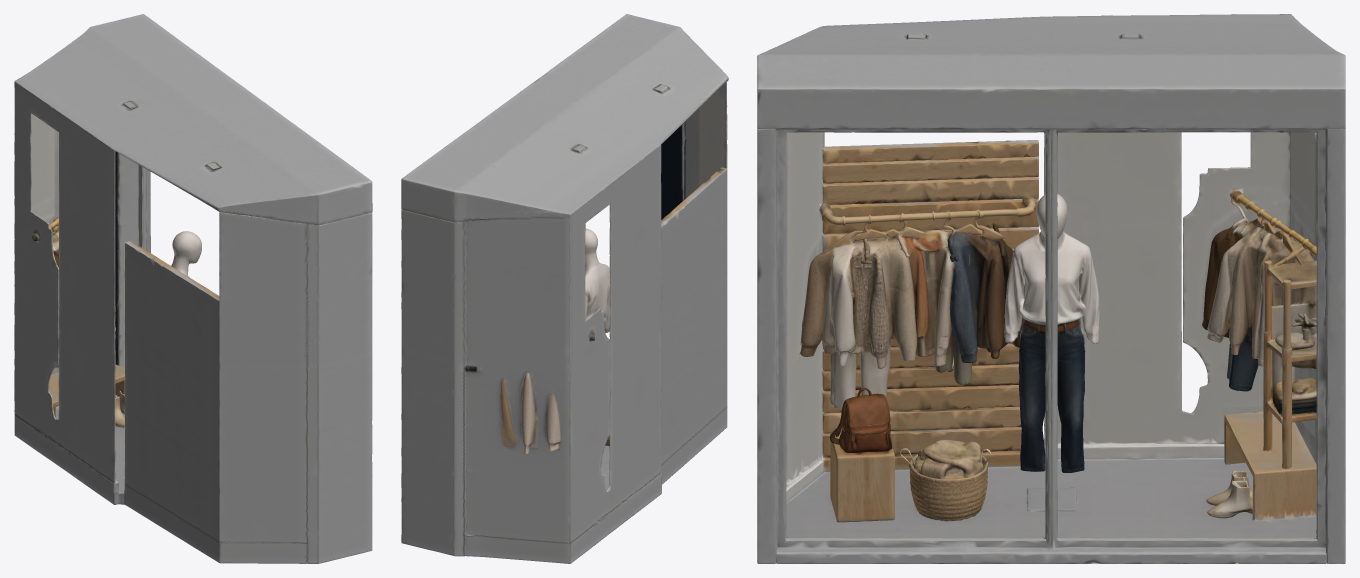
The model's file is front_elec_w.glb.
The picture shows the model from 3 angles, left to right: view 1: azimuth 30°, elevation 25°; view 2: azimuth 150°, elevation 25°; view 3: azimuth 270°, elevation 25°; orthographic projection. The views are drawn at different scales.
Parts seen in each view (by area): view 1: tripo_node_15f023c5-fded-41e5-b31d-ea46dc93f6ba; view 2: tripo_node_15f023c5-fded-41e5-b31d-ea46dc93f6ba; view 3: tripo_node_15f023c5-fded-41e5-b31d-ea46dc93f6ba.
Boxes of the visible parts, x1,y1,x2,y2 form: tripo_node_15f023c5-fded-41e5-b31d-ea46dc93f6ba: (14, 14, 372, 563); tripo_node_15f023c5-fded-41e5-b31d-ea46dc93f6ba: (401, 14, 728, 563); tripo_node_15f023c5-fded-41e5-b31d-ea46dc93f6ba: (757, 14, 1345, 563).
Bounding box in the file's own units: 0.915 × 2.1 × 2.35.
Materials: 1 (1 with a texture image).
